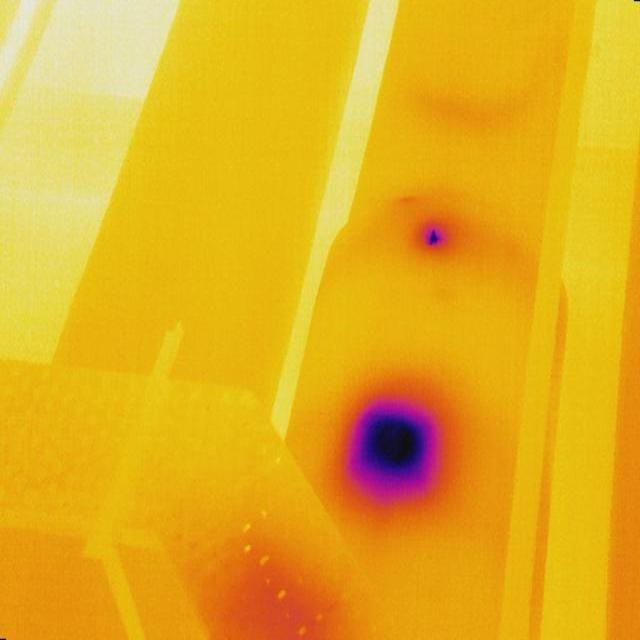leakage: (331, 382, 455, 520), (202, 552, 322, 640), (422, 227, 446, 251)
